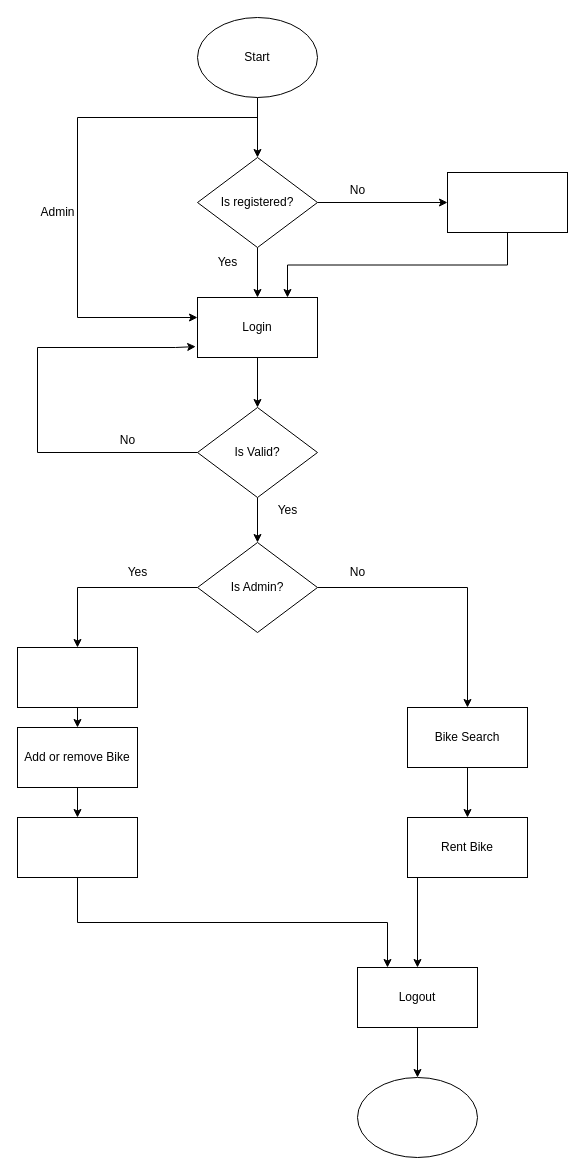
The diagram is 585 pixels wide and 1175 high, and some of its shapes have lost their labels. Each missing label, with the centre of its shape:
"Registration" goes at point (507, 202).
"Stop" goes at point (417, 1117).
"Update bike rents" goes at point (77, 847).
"verify users" goes at point (77, 677).
